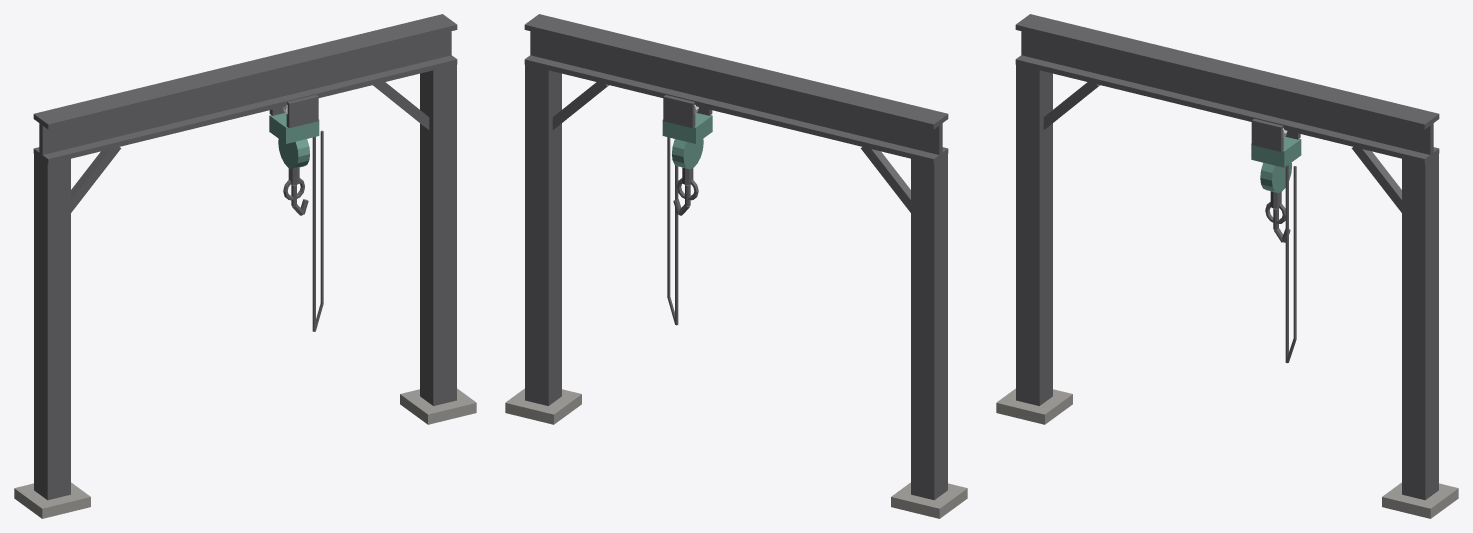
The model's file is distillery-and-bonded-warehouse-cask-hoist-rail-831d10cd__38697.glb.
3 views of the same model, side by side, from view 1: azimuth 30°, elevation 25°; view 2: azimuth 150°, elevation 25°; view 3: azimuth 330°, elevation 25° (orthographic).
Parts seen in each view (by area): view 1: cask-hoist-rail-iron, cask-hoist-rail-concrete, block/paint, block/iron; view 2: cask-hoist-rail-iron, cask-hoist-rail-concrete, block/paint, block/iron; view 3: cask-hoist-rail-iron, cask-hoist-rail-concrete, block/paint, block/iron.
Boxes of the visible parts, x1,y1,x2,y2 form: cask-hoist-rail-iron: (33, 14, 457, 500); cask-hoist-rail-concrete: (14, 388, 476, 518); block/paint: (269, 113, 319, 169); block/iron: (269, 95, 318, 215); cask-hoist-rail-iron: (524, 14, 948, 500); cask-hoist-rail-concrete: (505, 388, 967, 518); block/paint: (662, 113, 712, 169); block/iron: (663, 95, 712, 215); cask-hoist-rail-iron: (1015, 14, 1439, 500); cask-hoist-rail-concrete: (996, 388, 1458, 518); block/paint: (1251, 136, 1301, 192); block/iron: (1251, 118, 1300, 242).
Size of the model in its own units: 4.46 by 3.79 by 0.4998.
Materials: 4 (1 with a texture image).
